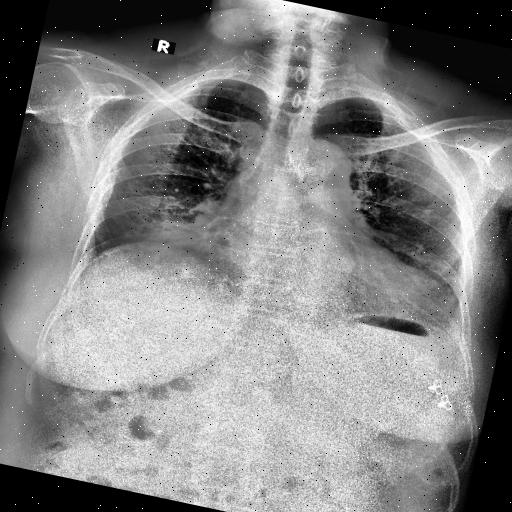0- Aortic enlargement: (288, 130, 363, 200), (272, 132, 356, 194), (289, 133, 359, 189)
3- Cardiomegaly: (183, 208, 463, 331), (162, 217, 445, 335), (190, 217, 456, 328)
